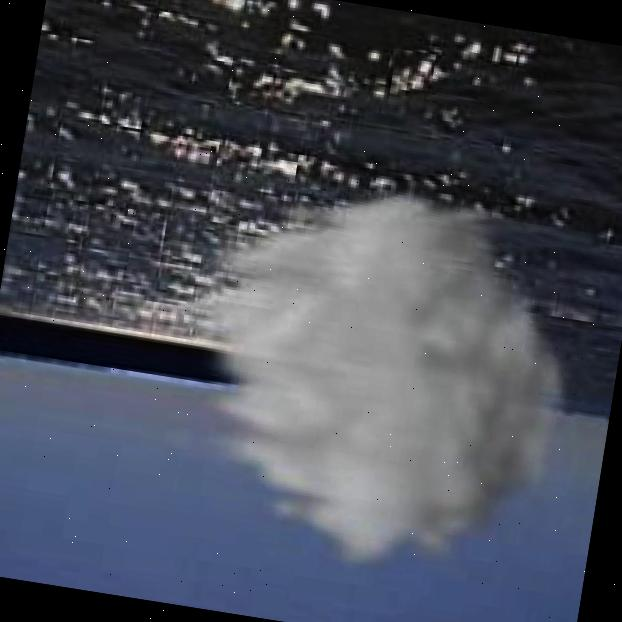smoke: (124, 150, 604, 605)
